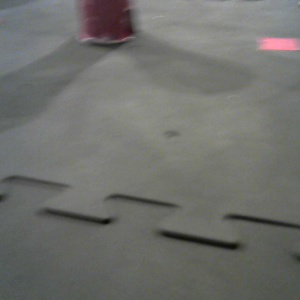right: (78, 1, 136, 45)
